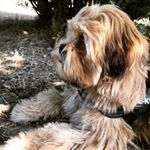puppy: (53, 3, 150, 145)
